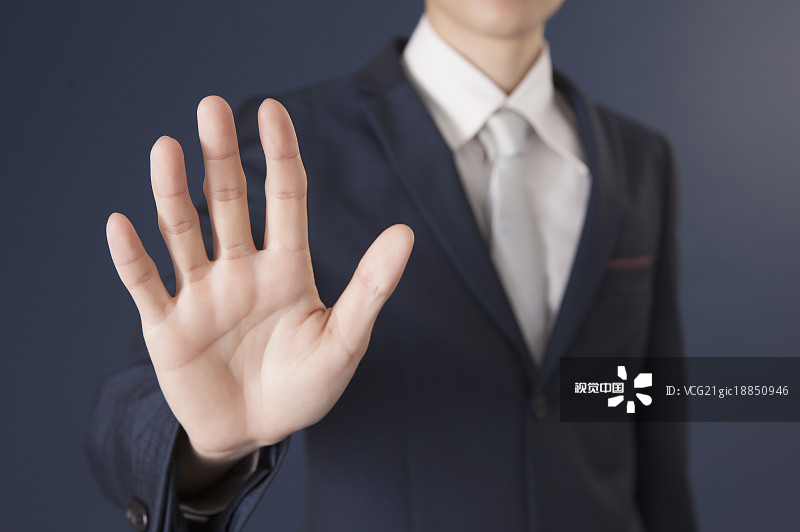no-phone: (79, 81, 427, 473)
